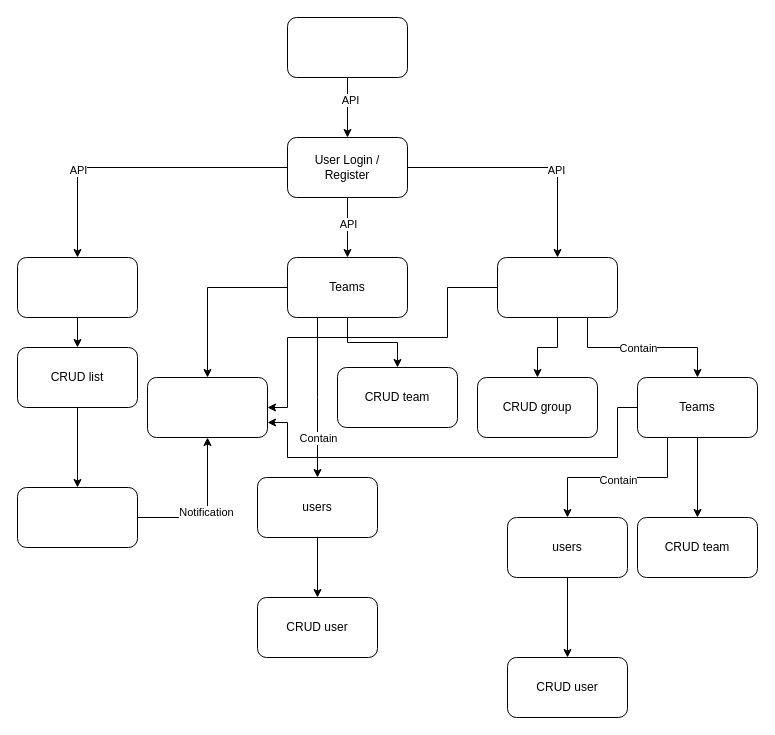
The diagram is 775 pixels wide and 735 high, and some of its shapes have lost their labels. Each missing label, with the box of its shape:
Admin: (146, 376, 268, 438)
Application: (286, 16, 408, 78)
Groups: (496, 256, 618, 318)
On User Change: (16, 486, 138, 548)
Todo Lists: (16, 256, 138, 318)
